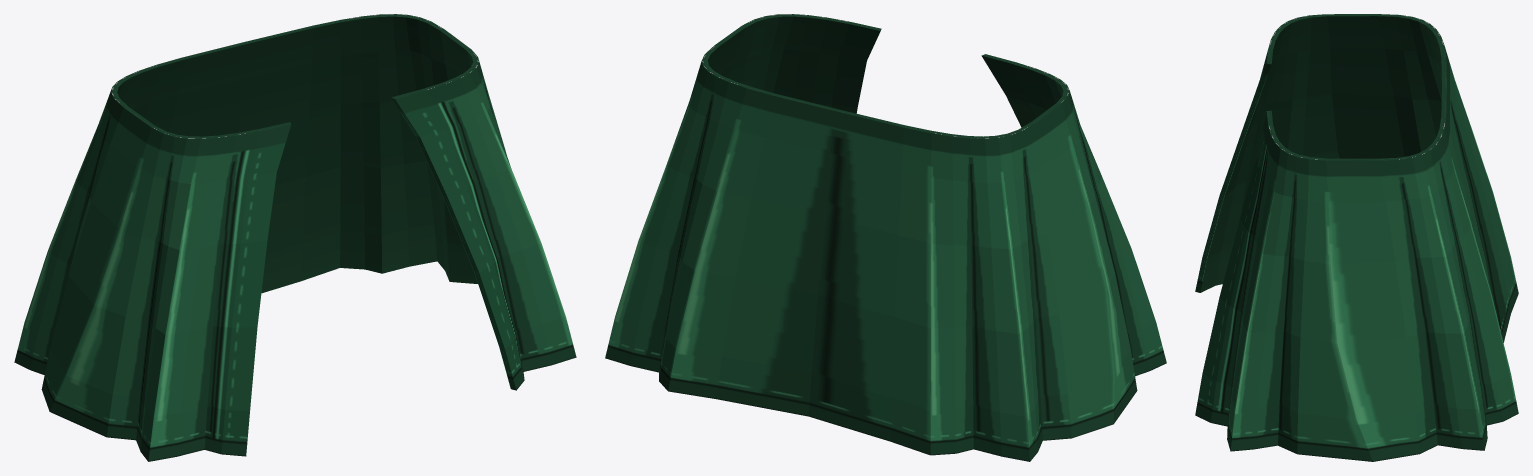
The model's file is acc_Manteau.fbx.
3 renders of one model, left to right at view 1: azimuth 30°, elevation 25°; view 2: azimuth 150°, elevation 25°; view 3: azimuth 270°, elevation 25°, orthographic. The views are drawn at different scales.
Parts seen in each view (by area): view 1: Manteau; view 2: Manteau; view 3: Manteau.
Part boxes in pixels (left/top/right/bottom): Manteau: left=14, top=14, right=576, bottom=461; Manteau: left=605, top=14, right=1166, bottom=461; Manteau: left=1195, top=14, right=1518, bottom=461.
Bounding box in the file's own units: 304 × 174 × 192.
Materials: 1 (1 with a texture image).
